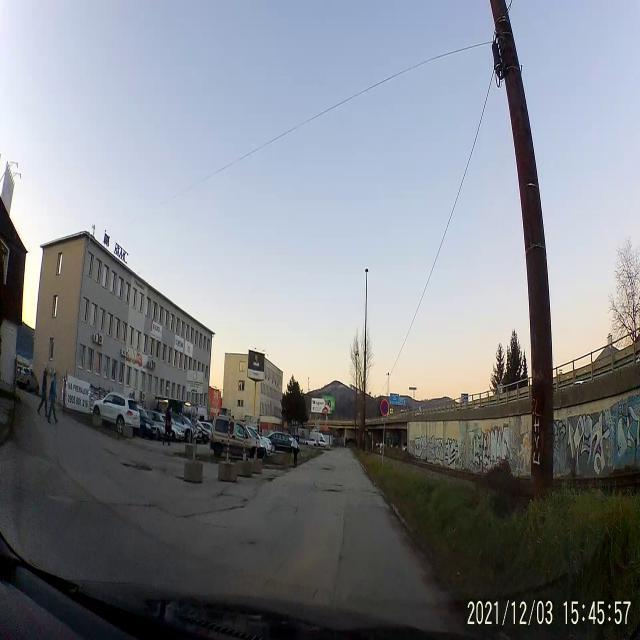Pothole: (118, 460, 158, 472), (316, 483, 350, 495), (317, 463, 340, 476)
